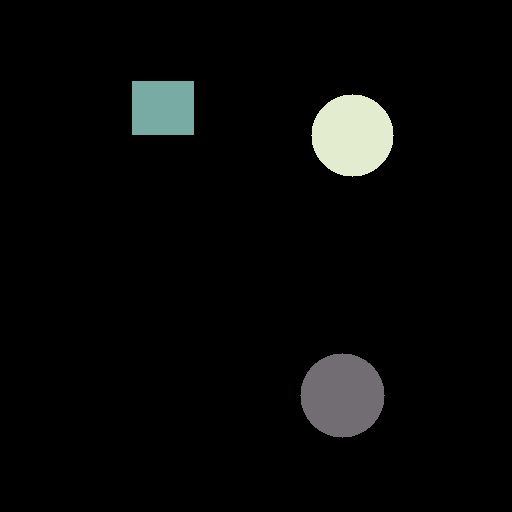circle: (300, 353, 384, 437), (311, 94, 393, 176)
rectangle: (132, 81, 193, 134)
